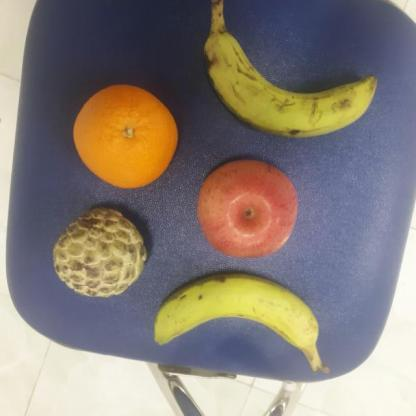annona: (50, 205, 153, 301)
apple: (197, 158, 300, 260)
banana: (200, 27, 377, 142), (151, 270, 322, 356)
orange: (72, 82, 181, 192)
